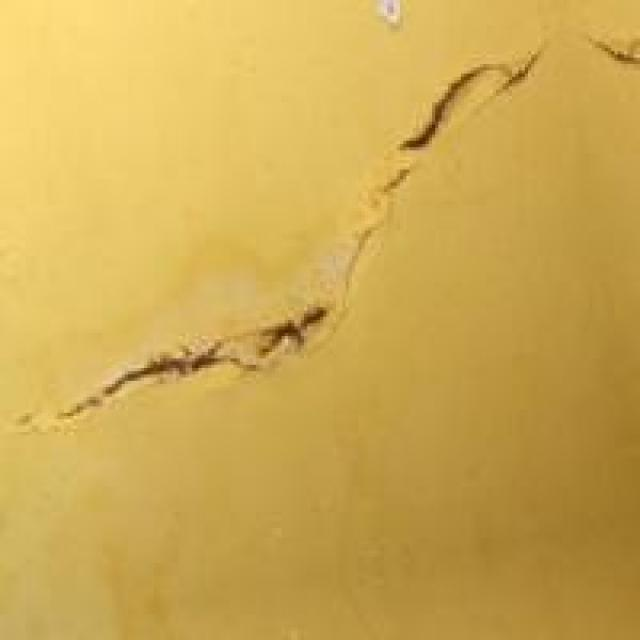Crack: (51, 30, 637, 418)
